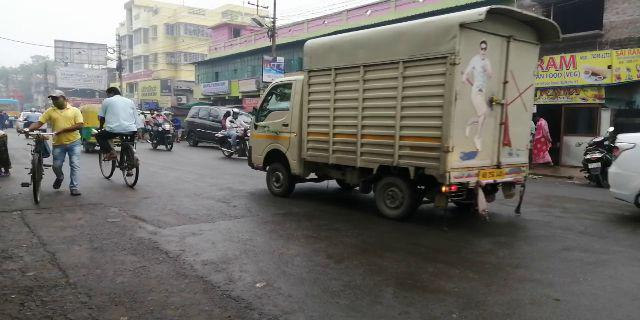Cycle: (94, 86, 142, 191), (20, 124, 56, 202)
Minitruck: (248, 5, 547, 205)
Motorbike: (149, 103, 178, 157)
